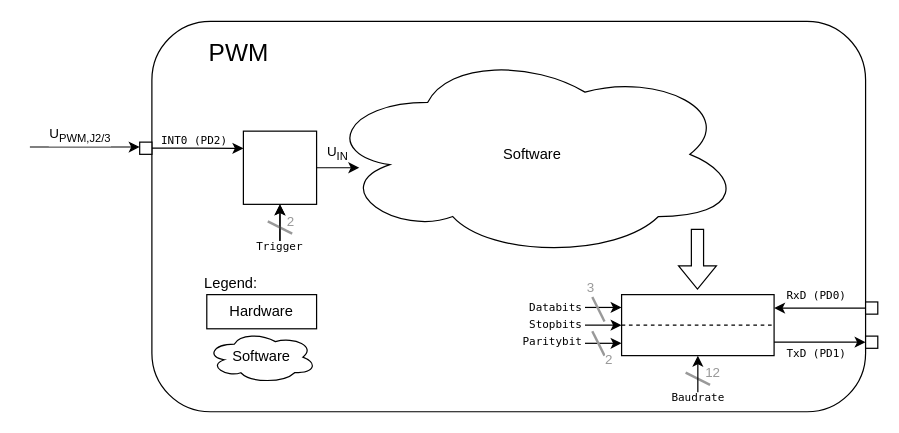
Some shapes in this 899 by 433 pixel diagram are drawn without their labels. The shapes that lost their labels are listed below. From the top down, each one's centre as x and y in pixels, then its label:
(279,167): EXTI
(697,324): UART
